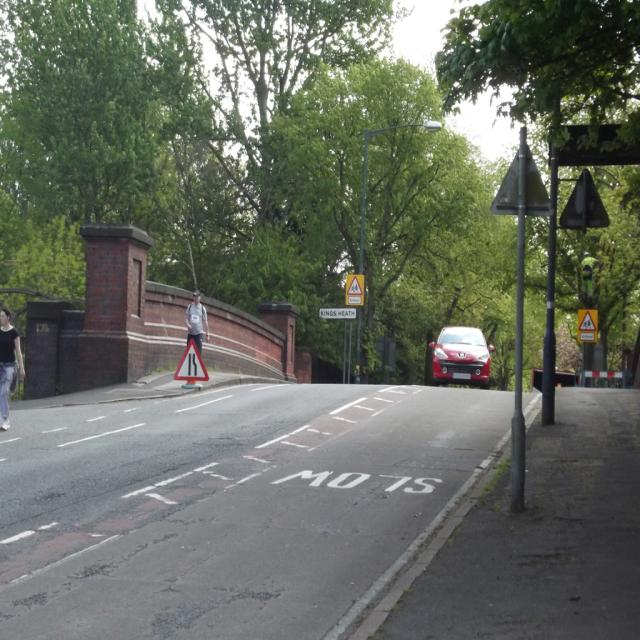car: (429, 325, 494, 385)
